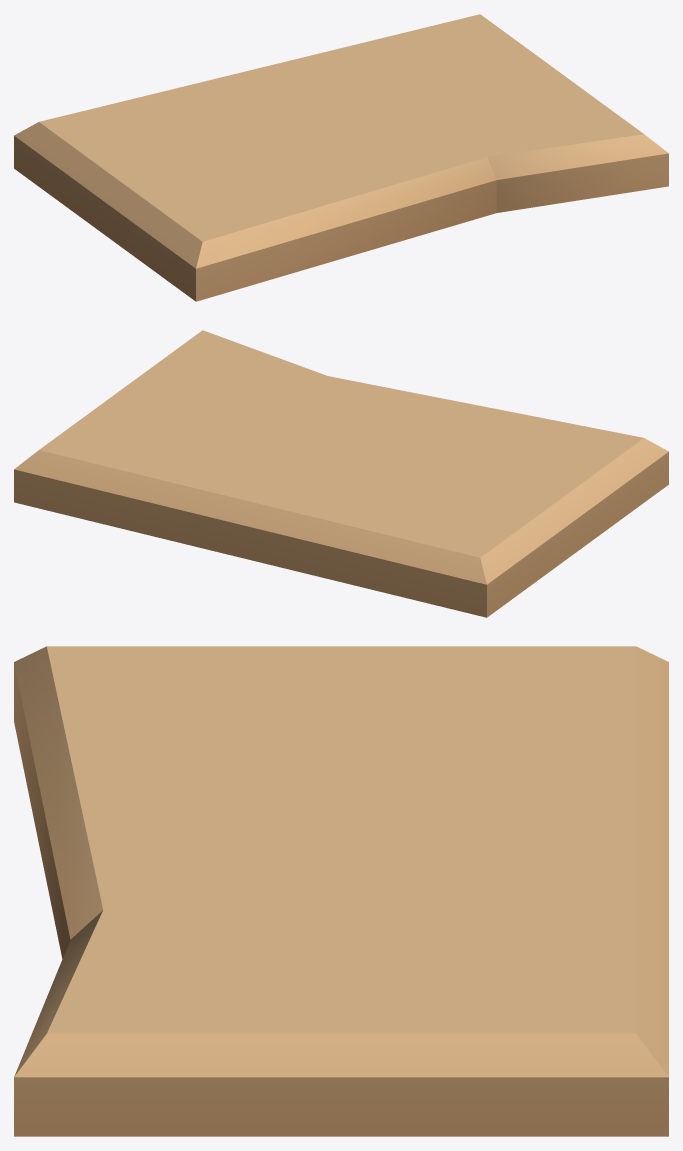
Rendered from cc0-cuttingboard-lod1.glb.
3 renders of one model, top to bottom at view 1: azimuth 30°, elevation 25°; view 2: azimuth 150°, elevation 25°; view 3: azimuth 270°, elevation 25°, orthographic. The views are drawn at different scales.
Parts seen in each view (by area): view 1: part_0; view 2: part_0; view 3: part_0.
Part boxes in pixels (x1,y1,x2,y2): part_0: [14, 14, 668, 301]; part_0: [14, 330, 668, 617]; part_0: [14, 646, 668, 1136].
Size of the model in its own units: 1.5 by 0.15 by 1.
1 material, 1 textured.
